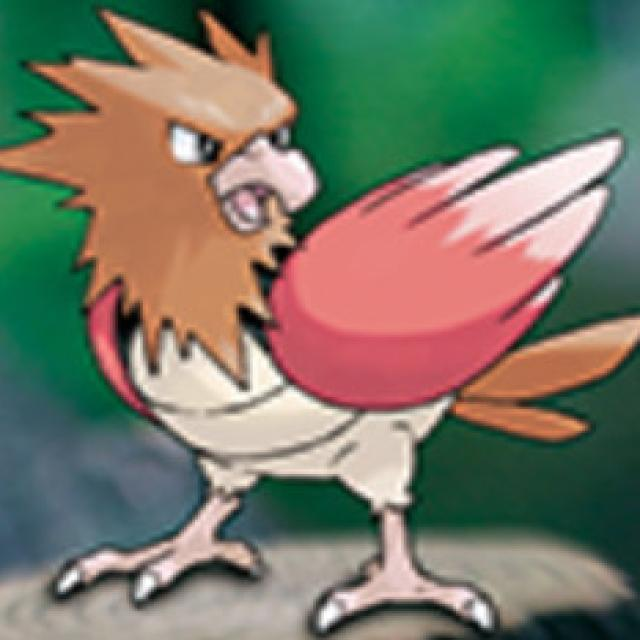Spearow: (59, 35, 570, 604)
